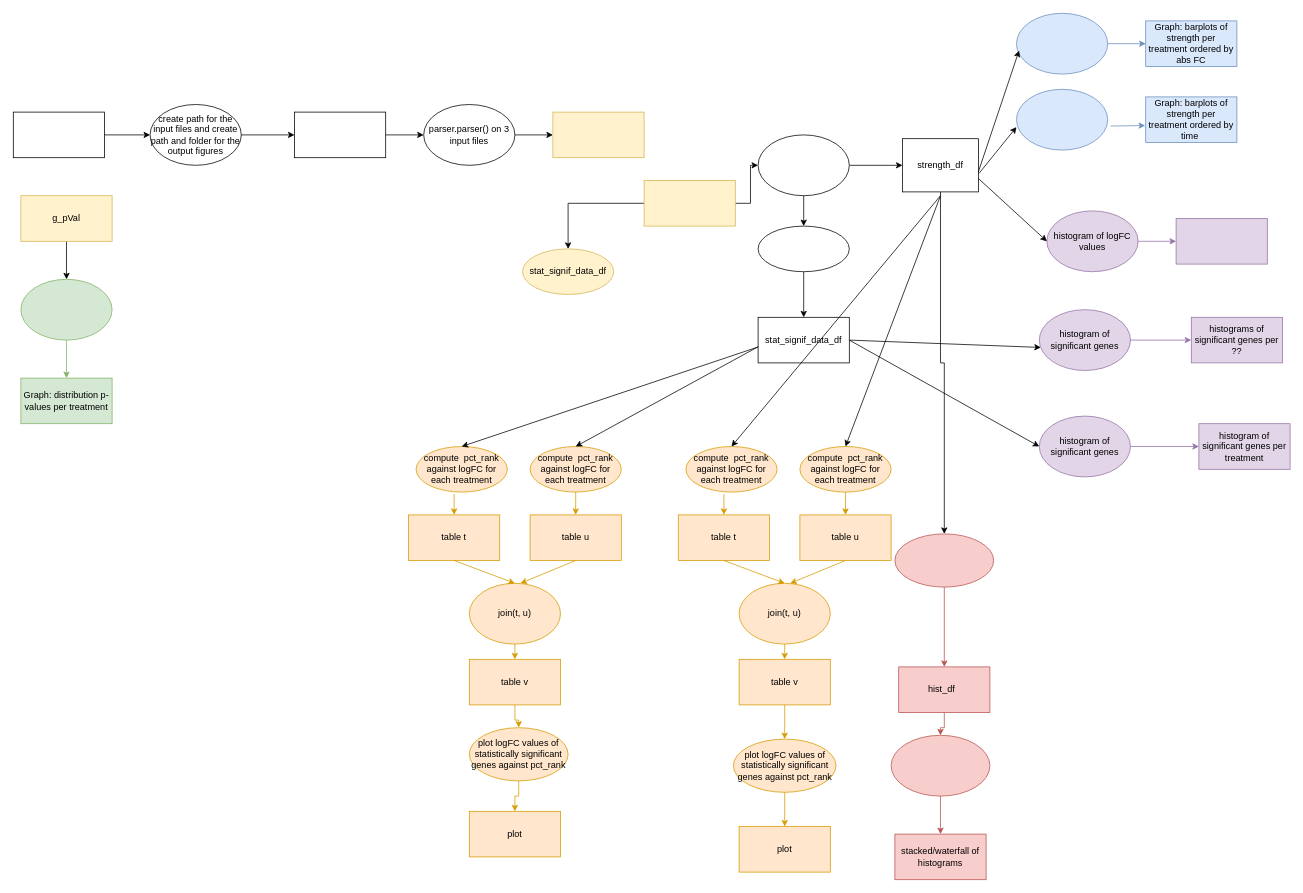
Image size: 1303x893. Some labels were removed from this diagram. Each missing label, with the centre of its shape:
"- g_logFc - g_adjPVal - g_pVal" goes at (x=598, y=134).
"experiment_id analysis_dir" goes at (x=58, y=134).
"for each treatment, add a trace of the p-value against the fraction of the genes" goes at (x=66, y=309).
"for each treatment, calculate dge strength" goes at (x=803, y=165).
"for each treatment, create list of count and list of logFC values" goes at (x=944, y=560).
"for each treatment, plot nb of counts per logFC and stack them" goes at (x=940, y=765).
"for each treatment, plot the DGE sign strengths ordered by abs FC" goes at (x=1062, y=43).
"for each treatment, plot the DGE sign strengths ordered by time" goes at (x=1062, y=119).
"g_logFc g_adjPVal" goes at (x=689, y=203).
"histograms of logFC values per treatment" goes at (x=1221, y=241).
"only keep significant genes" goes at (x=803, y=248).
"path for inputs and outputs files" goes at (x=340, y=134).
